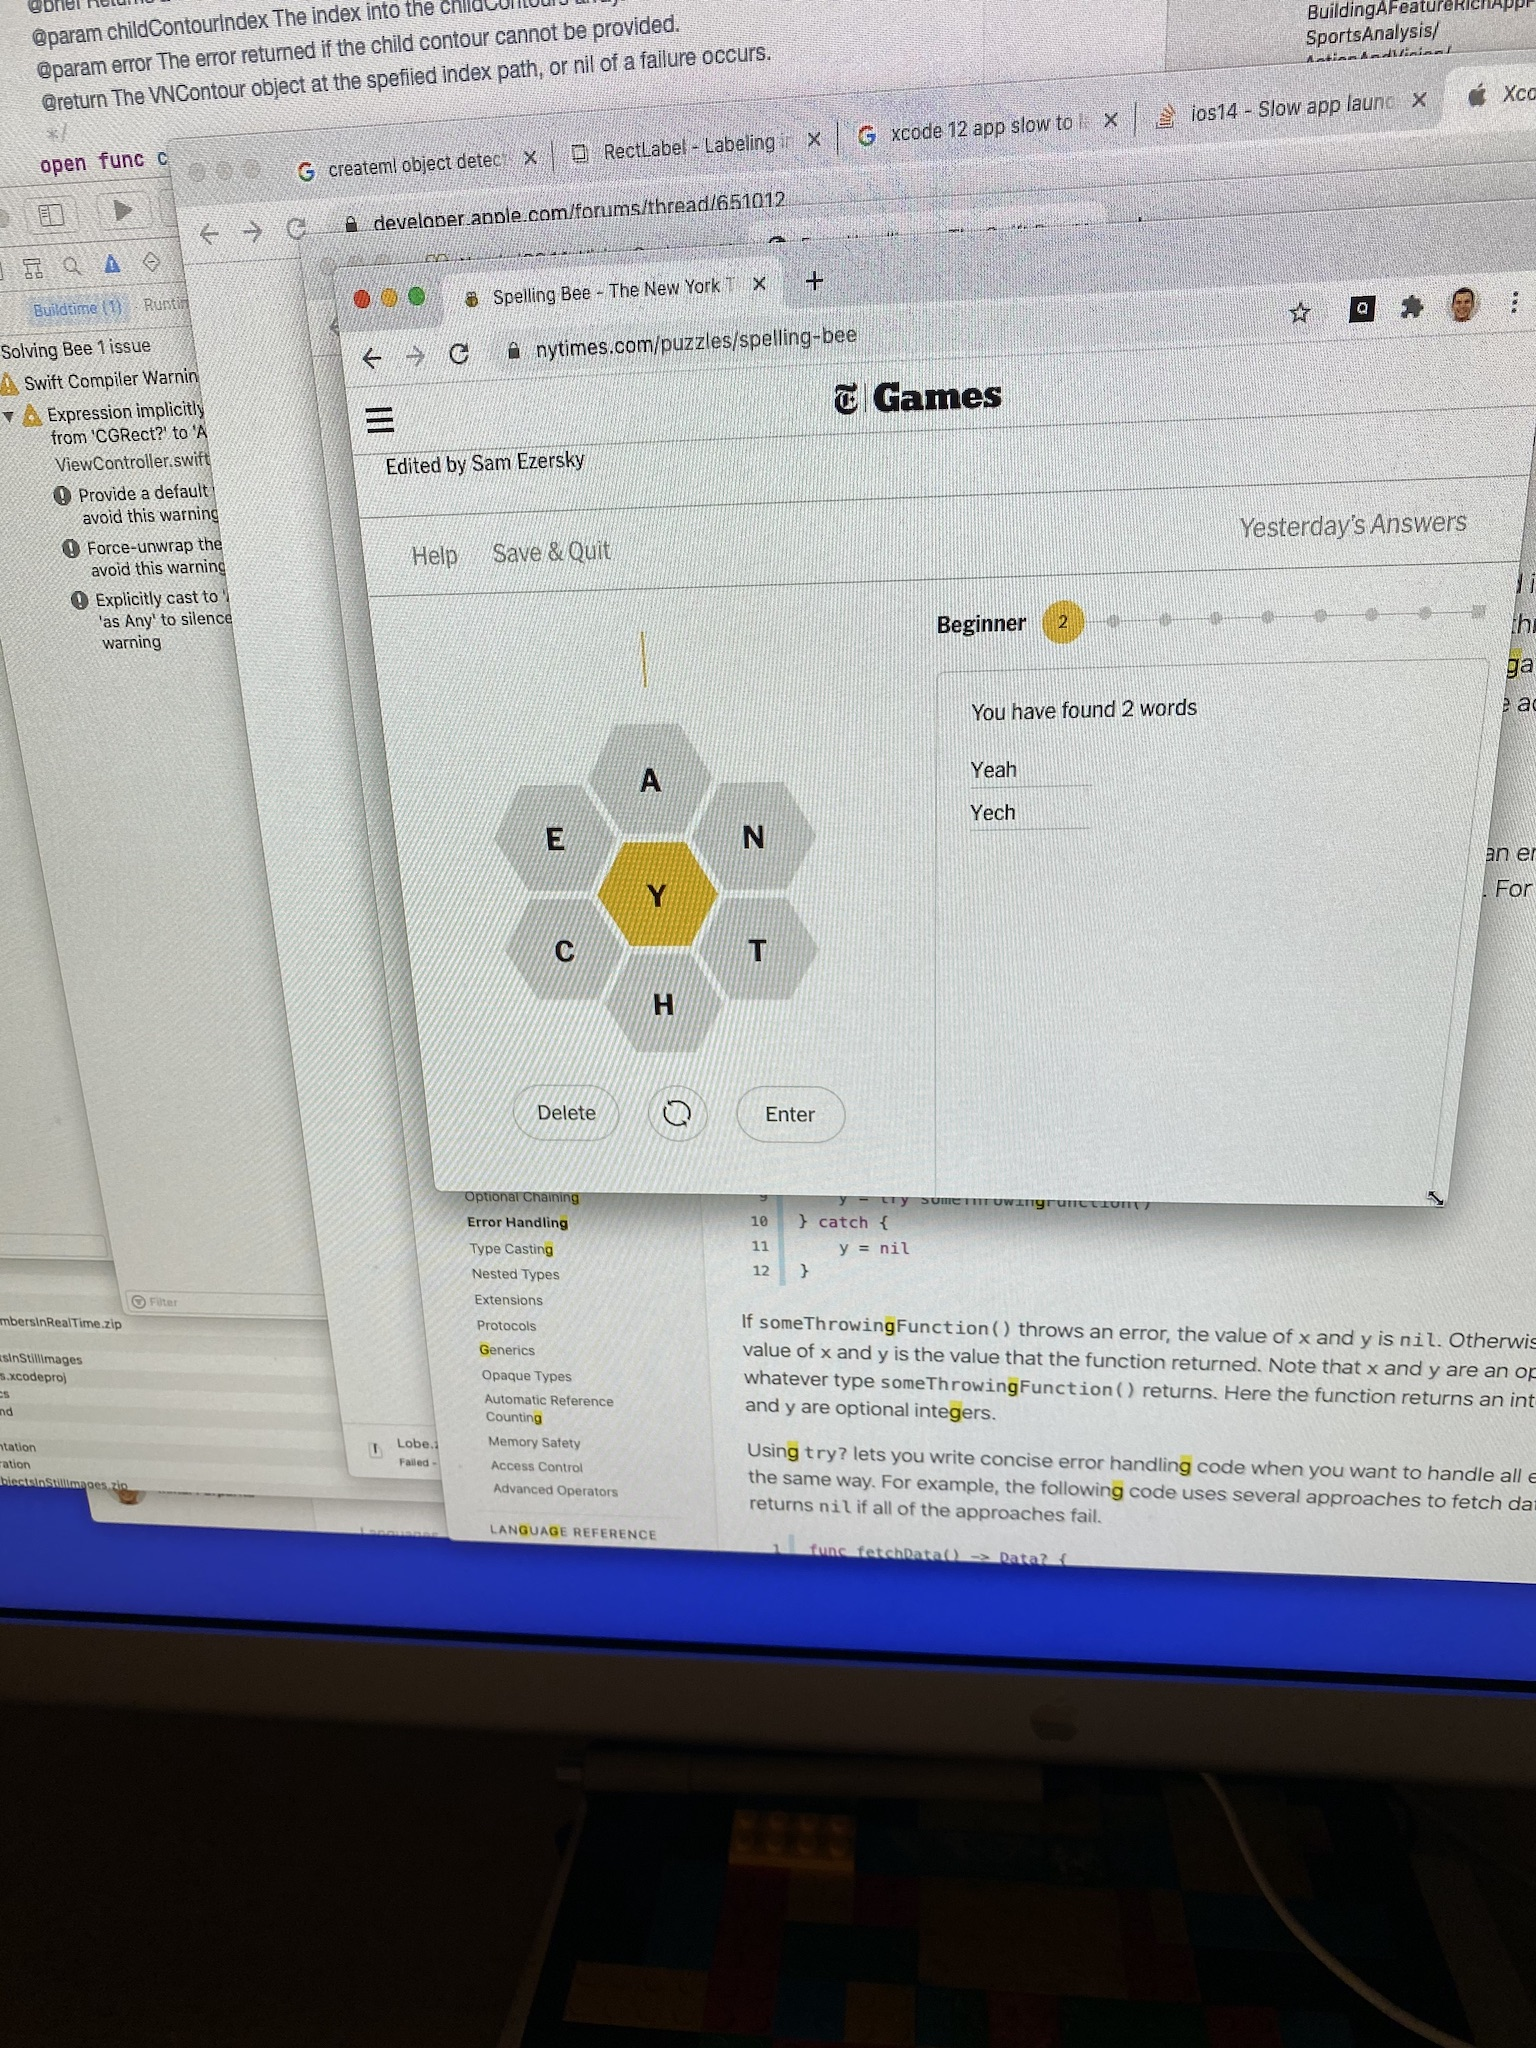Board: (466, 705, 845, 1072)
